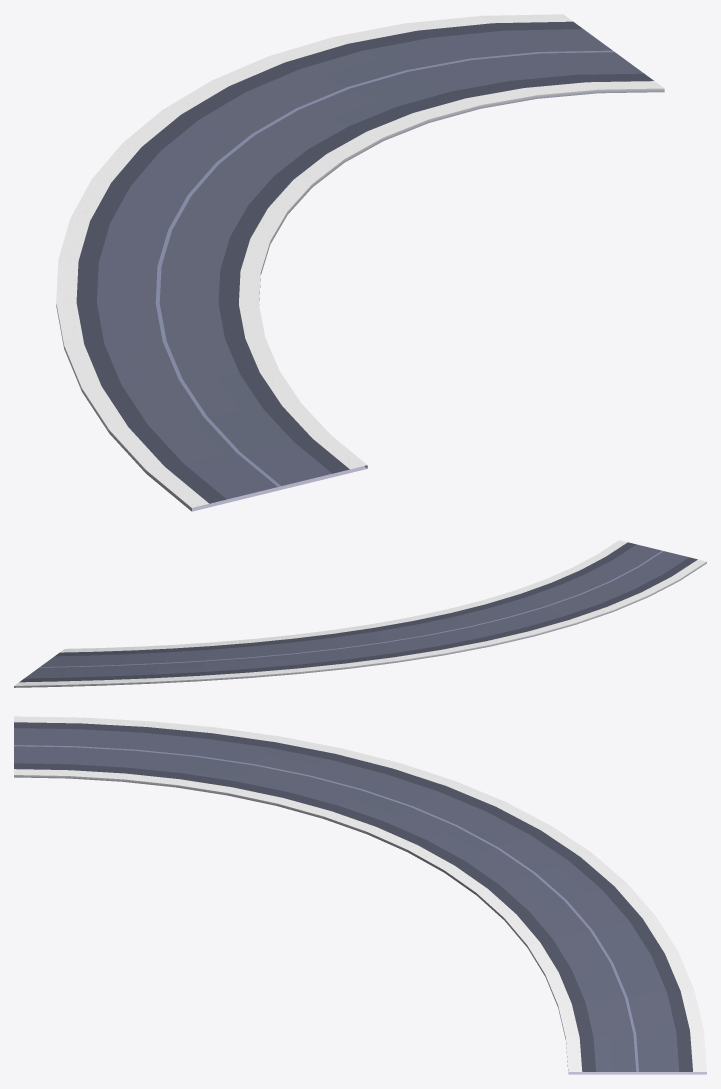
File: road-Turn-Flat-BiSlopeDown-Down2-Right-Size5.glb
3 views of the same model, one above another, from view 1: azimuth 30°, elevation 25°; view 2: azimuth 150°, elevation 25°; view 3: azimuth 270°, elevation 25° (orthographic). The views are drawn at different scales.
Visible parts, largest first — view 1: road-Turn-Flat-BiSlopeDown-Down2-Right-Size5; view 2: road-Turn-Flat-BiSlopeDown-Down2-Right-Size5; view 3: road-Turn-Flat-BiSlopeDown-Down2-Right-Size5.
Boxes of the visible parts, x1,y1,x2,y2 form: road-Turn-Flat-BiSlopeDown-Down2-Right-Size5: [56, 14, 664, 511]; road-Turn-Flat-BiSlopeDown-Down2-Right-Size5: [14, 540, 706, 687]; road-Turn-Flat-BiSlopeDown-Down2-Right-Size5: [14, 716, 706, 1074].
Bounding box in the file's own units: 5 × 0.5438 × 5.
1 material, 1 textured.
